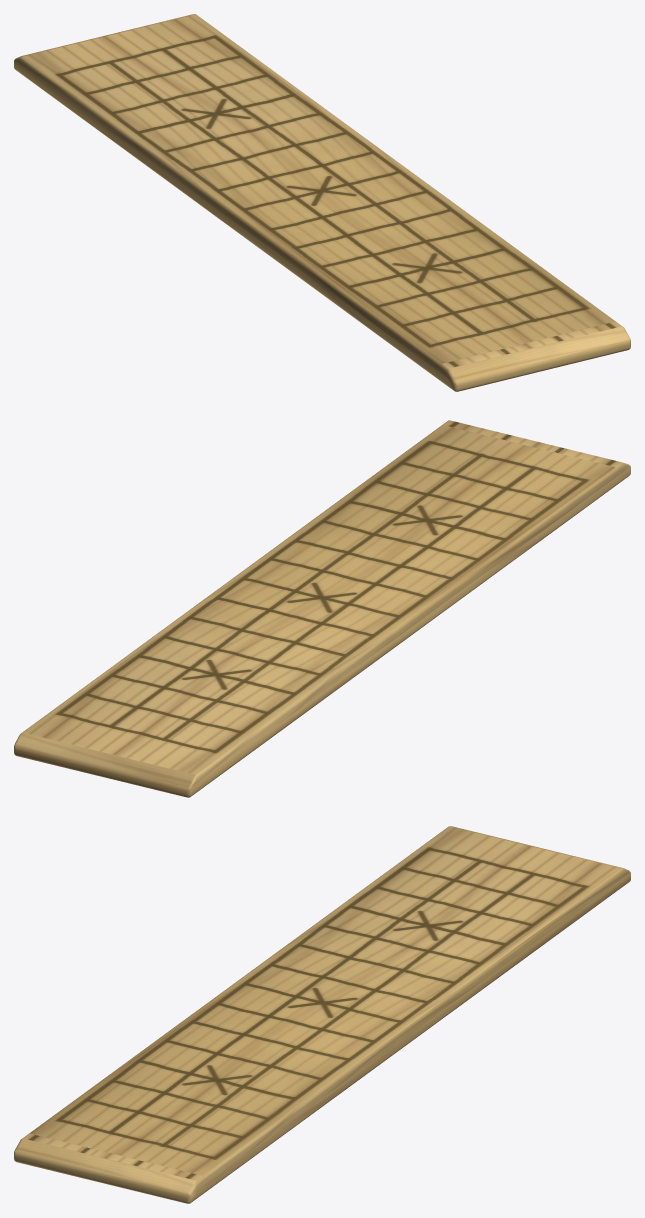
Rendered from Board.fbx.
The picture shows the model from 3 angles, top to bottom: view 1: azimuth 30°, elevation 25°; view 2: azimuth 150°, elevation 25°; view 3: azimuth 330°, elevation 25°; orthographic projection.
Visible parts, largest first — view 1: Board; view 2: Board; view 3: Board.
Part boxes in pixels (x1=…): Board: x1=14, y1=14, x2=630, y2=391; Board: x1=14, y1=420, x2=630, y2=797; Board: x1=14, y1=826, x2=630, y2=1203.
Bounding box in the file's own units: 689 × 69.28 × 2977.
